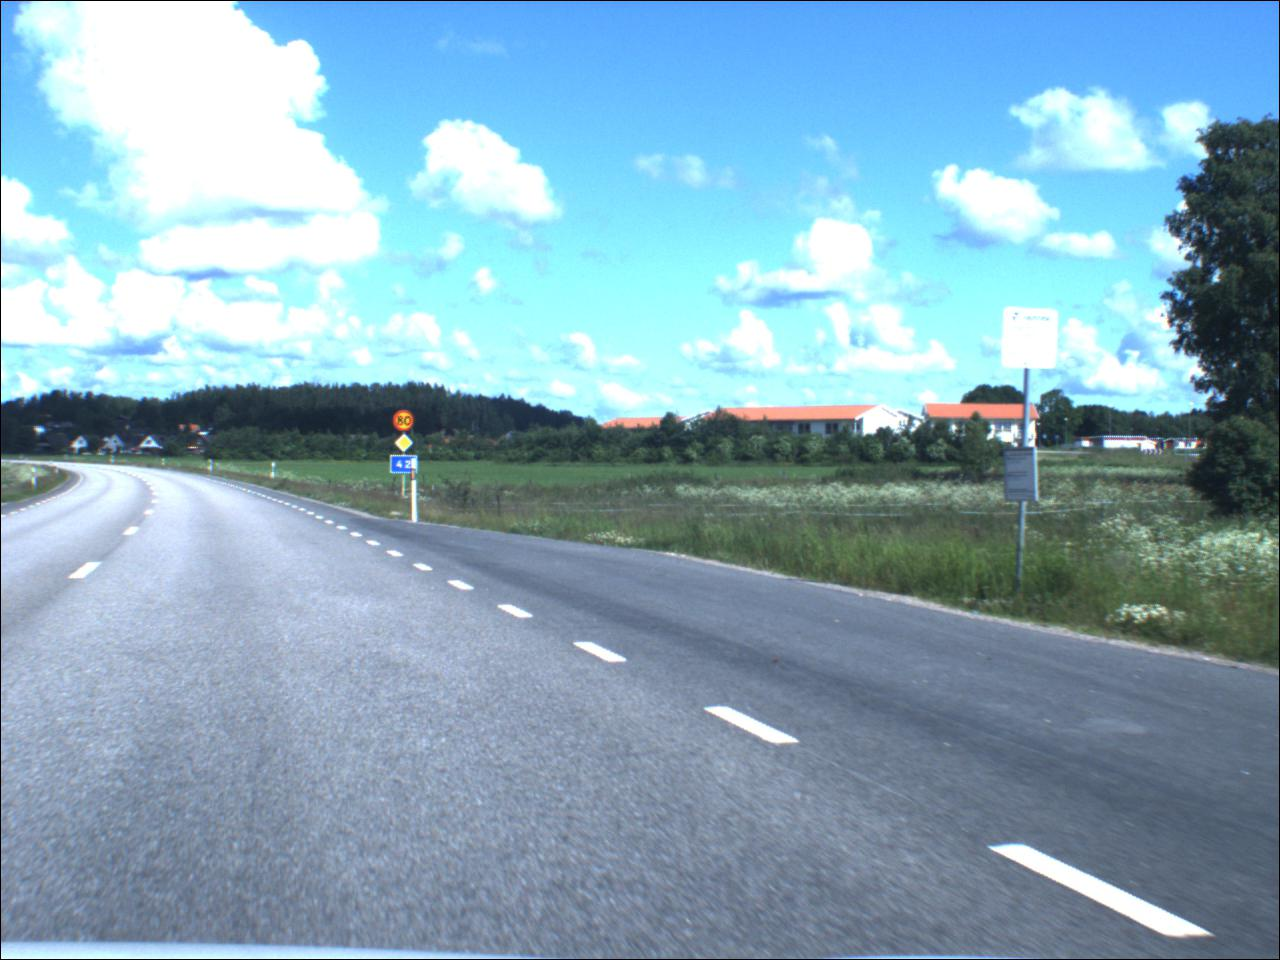80_SIGN: (396, 411, 419, 434)
PRIORITY_ROAD: (395, 435, 415, 455)
